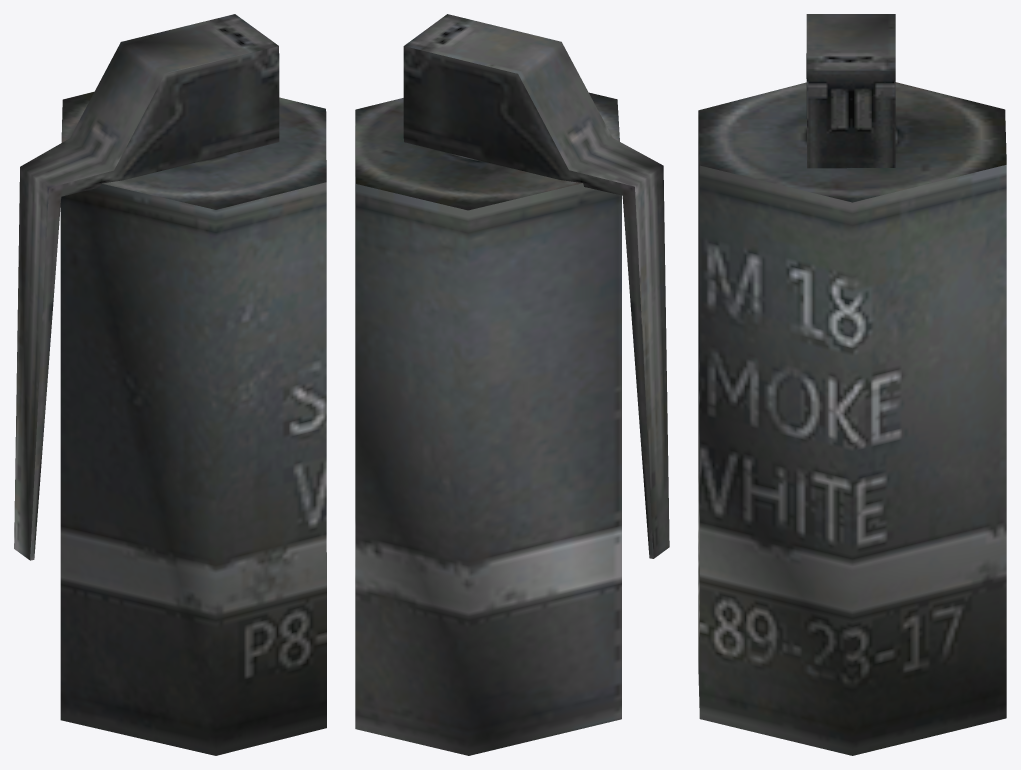
Rendered from Heavy_Throwable_sl_02_lod2_LOD_(000156).glb.
3 renders of one model, left to right at view 1: azimuth 30°, elevation 25°; view 2: azimuth 150°, elevation 25°; view 3: azimuth 270°, elevation 25°, orthographic.
Visible parts, largest first — view 1: sl_02_lod2; view 2: sl_02_lod2; view 3: sl_02_lod2.
Boxes of the visible parts, x1=… form: sl_02_lod2: x1=14, y1=14, x2=326, y2=755; sl_02_lod2: x1=355, y1=14, x2=669, y2=755; sl_02_lod2: x1=698, y1=14, x2=1006, y2=755.
Bounding box in the file's own units: 0.0833 × 0.1674 × 0.0719.
1 material, 1 textured.
